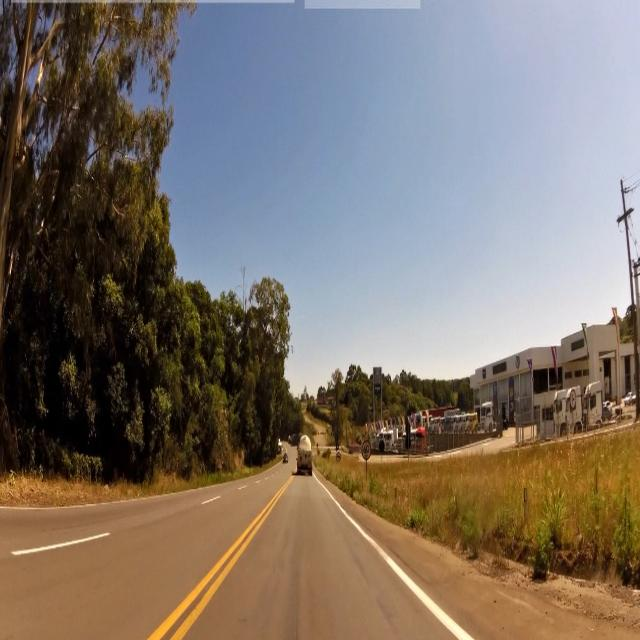R-19: (361, 440, 371, 461)
